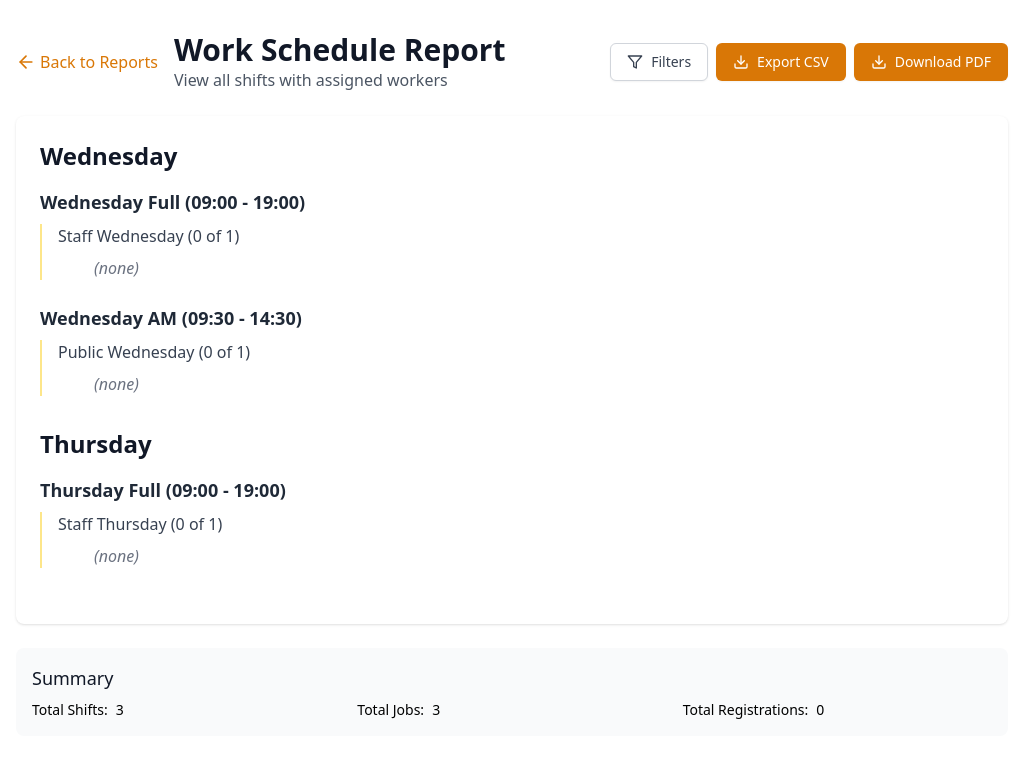
Test: WorkScheduleReportPage › shouldHideShiftsAndDaysWithNoJobsAfterFiltering
Expected: the heading "Wednesday Full (09:00 - 19:00)" is shown, [40, 190, 305, 214]
Click the button "Filters" at (659, 62), box [610, 43, 708, 81]
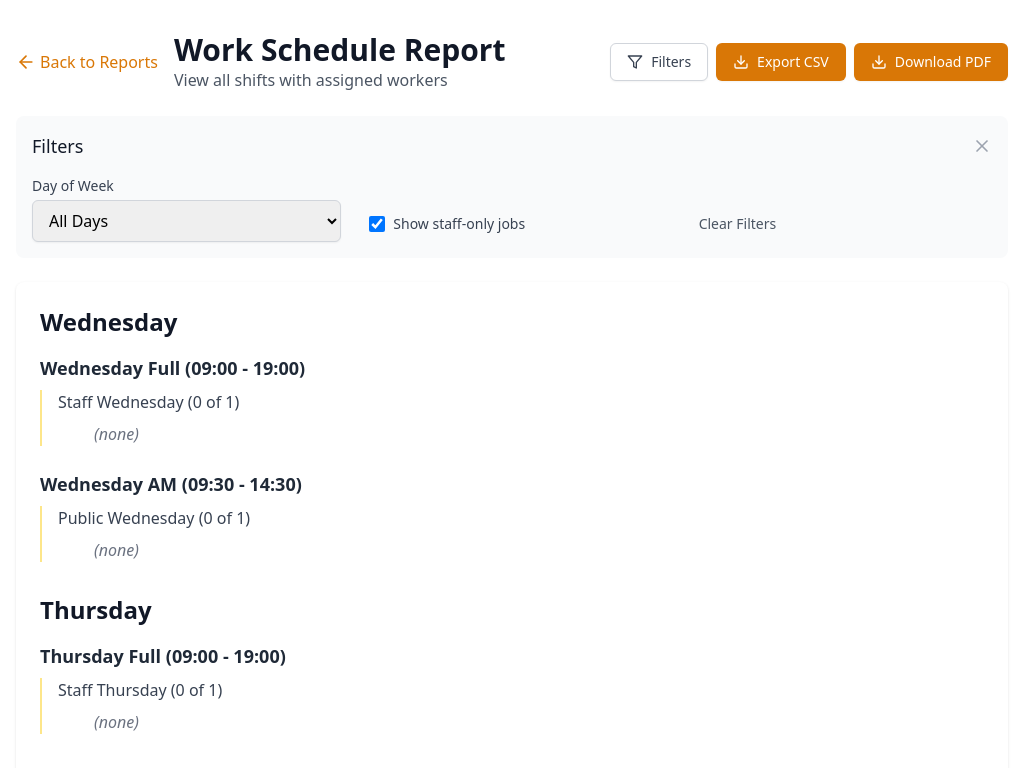
Click the checkbox labelled "Show staff-only jobs" at (377, 224), box [369, 216, 385, 232]
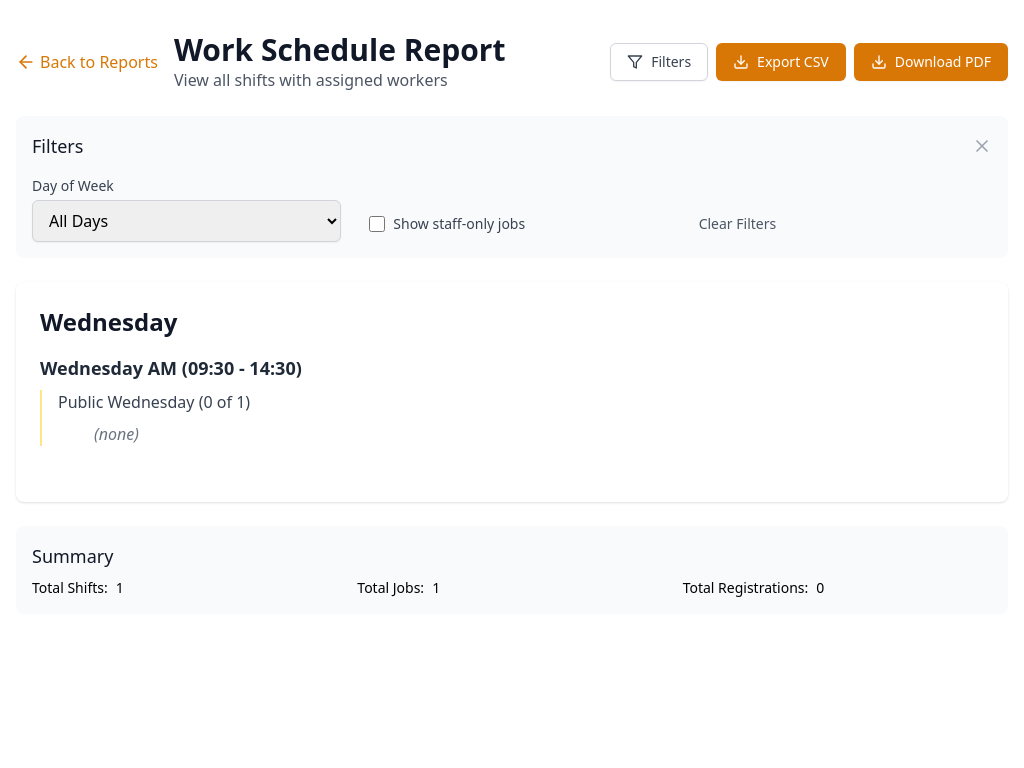
Expected: the heading "Wednesday Full (09:00 - 19:00)" is gone
Expected: the heading "Thursday Full (09:00 - 19:00)" is gone
Expected: the heading "Thursday" is gone
